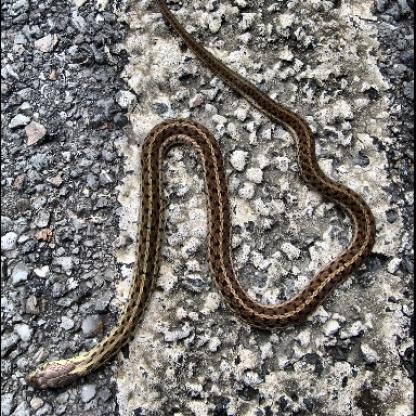Snake: (29, 1, 377, 398), (15, 315, 136, 402)
